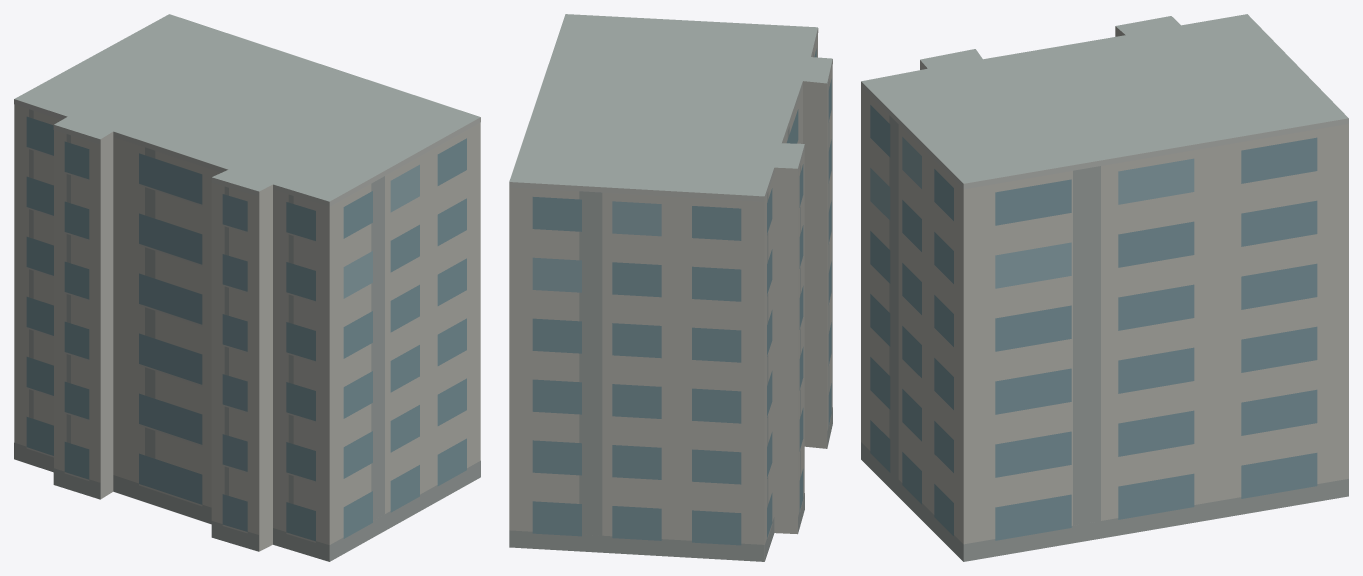
The model's file is survey-upis-32973067.glb.
3 views of the same model, side by side, from view 1: azimuth 30°, elevation 25°; view 2: azimuth 150°, elevation 25°; view 3: azimuth 270°, elevation 25° (orthographic). The views are drawn at different scales.
Visible parts, largest first — view 1: survey-upis-32973067.tmp; view 2: survey-upis-32973067.tmp; view 3: survey-upis-32973067.tmp.
Boxes of the visible parts, bbox=[...] form: survey-upis-32973067.tmp: bbox=[14, 14, 480, 561]; survey-upis-32973067.tmp: bbox=[509, 14, 832, 561]; survey-upis-32973067.tmp: bbox=[861, 14, 1348, 561].
Size of the model in its own units: 16.09 by 16.7 by 19.53.
